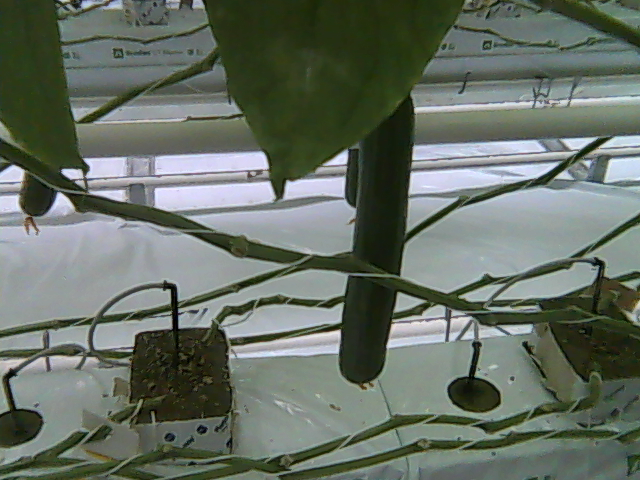concombre: (336, 91, 418, 392)
